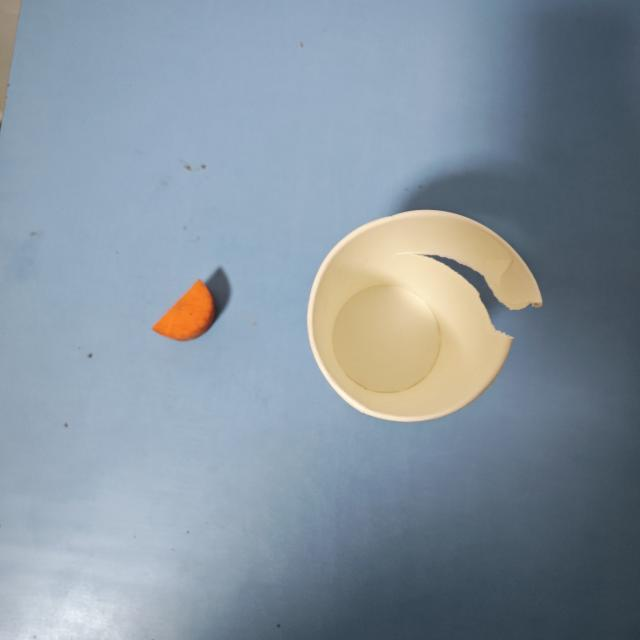-Kitchen waste - carrot-: (154, 276, 218, 342)
-Recyclables - paper cup-: (308, 206, 546, 430)
